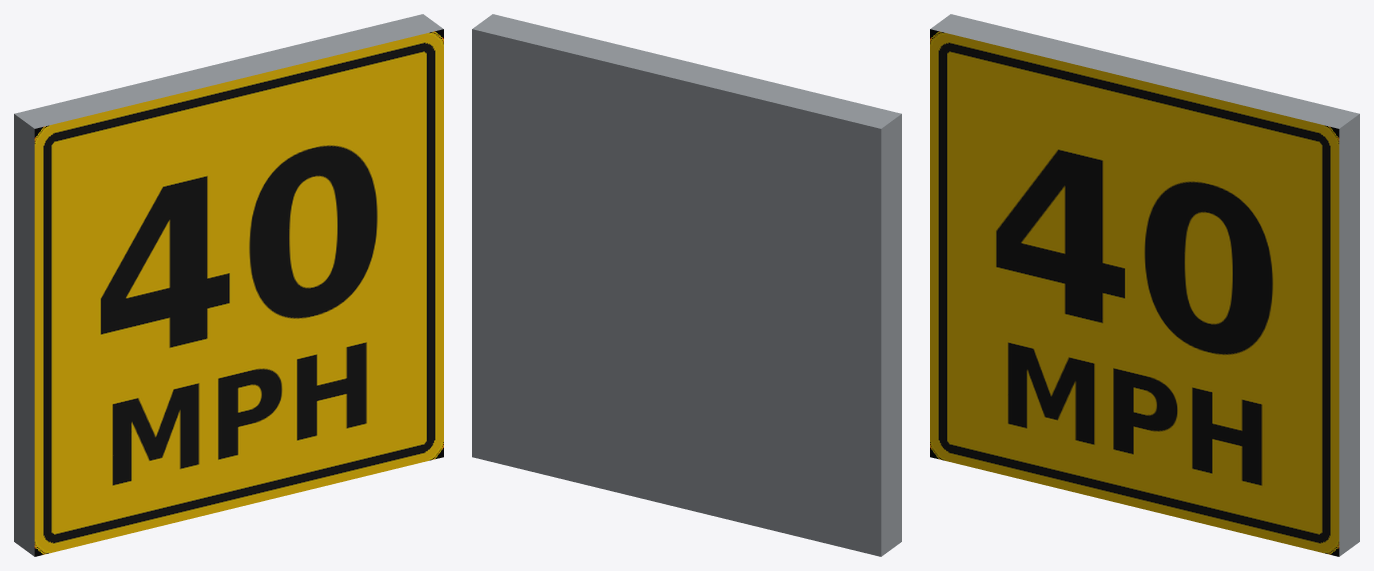
Rendered from us_advisory40.dae.
3 views of the same model, side by side, from view 1: azimuth 30°, elevation 25°; view 2: azimuth 150°, elevation 25°; view 3: azimuth 330°, elevation 25° (orthographic).
Parts seen in each view (by area): view 1: sign4, Colmesh-1; view 2: Colmesh-1; view 3: sign4, Colmesh-1.
Boxes of the visible parts, x1,y1,x2,y2 form: sign4: [34, 29, 443, 556]; Colmesh-1: [14, 14, 443, 556]; Colmesh-1: [472, 14, 901, 556]; sign4: [930, 29, 1339, 556]; Colmesh-1: [930, 14, 1359, 556].
Bounding box in the file's own units: 0.4572 × 0.04 × 0.4572.
Materials: 2 (1 with a texture image).
